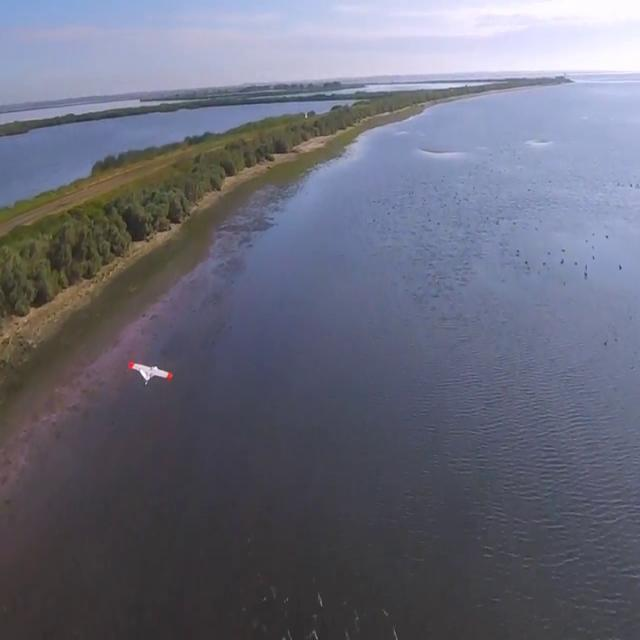iha: (125, 356, 175, 391)
